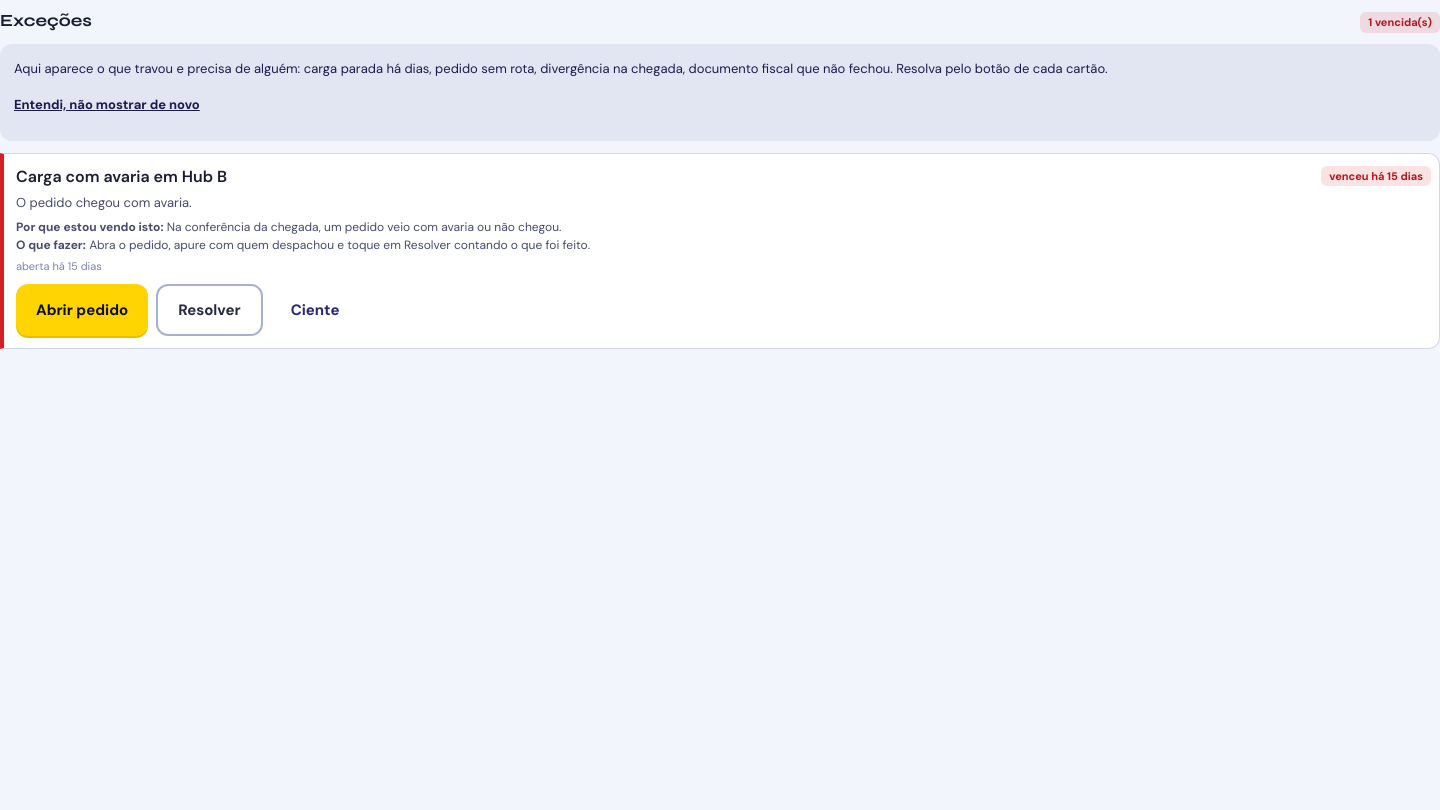
ExceptionsPage › resolver exige a nota antes de habilitar a confirmacao
Later steps or results of the test are not shown.
Step 1. Click the button "Resolver" → (209, 310), box [156,284,263,336]
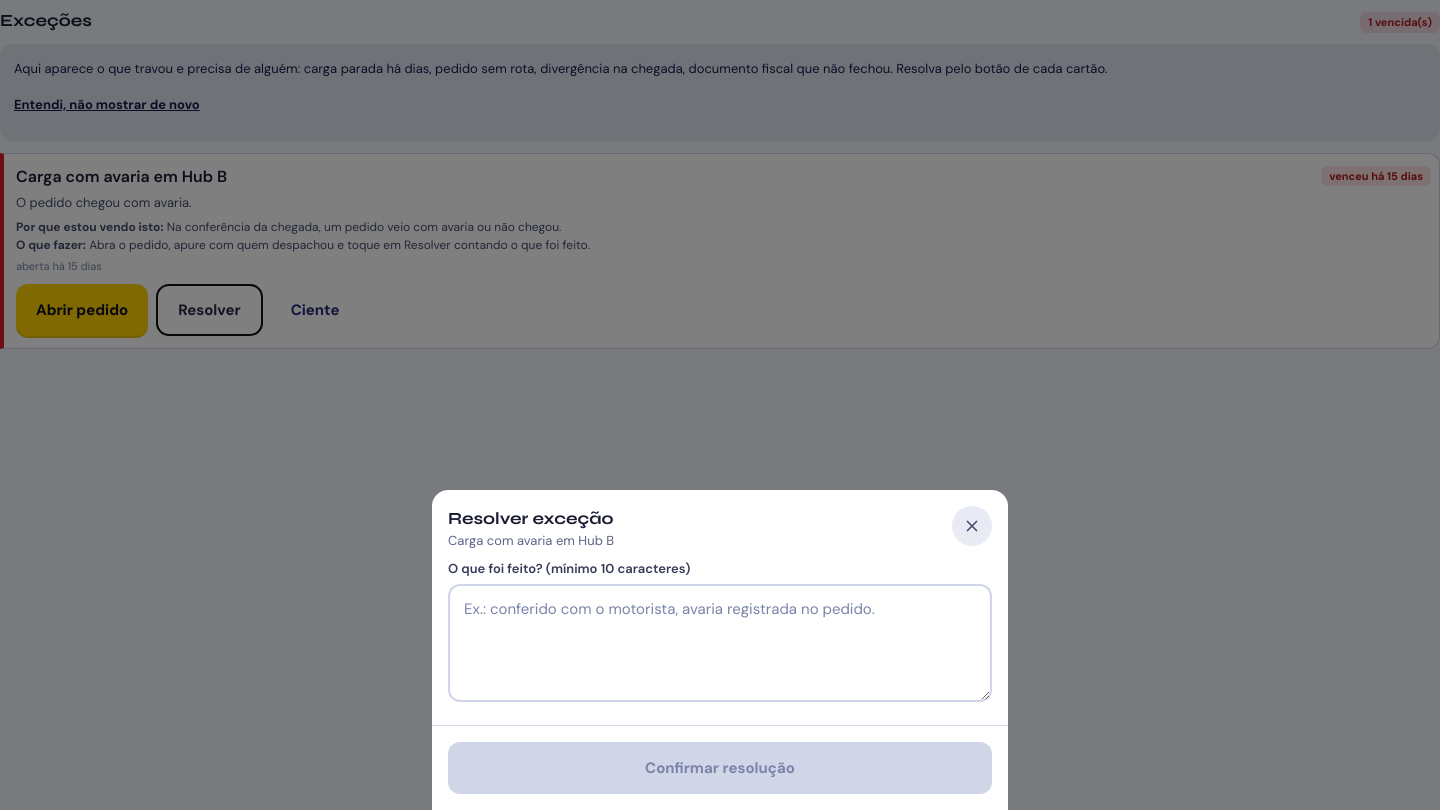
expect the button "Confirmar resolução" is disabled: met, box [448,742,992,794]
Step 2. Type "Conferido com o motorista." into the text box → (720, 643), box [448,584,992,702]
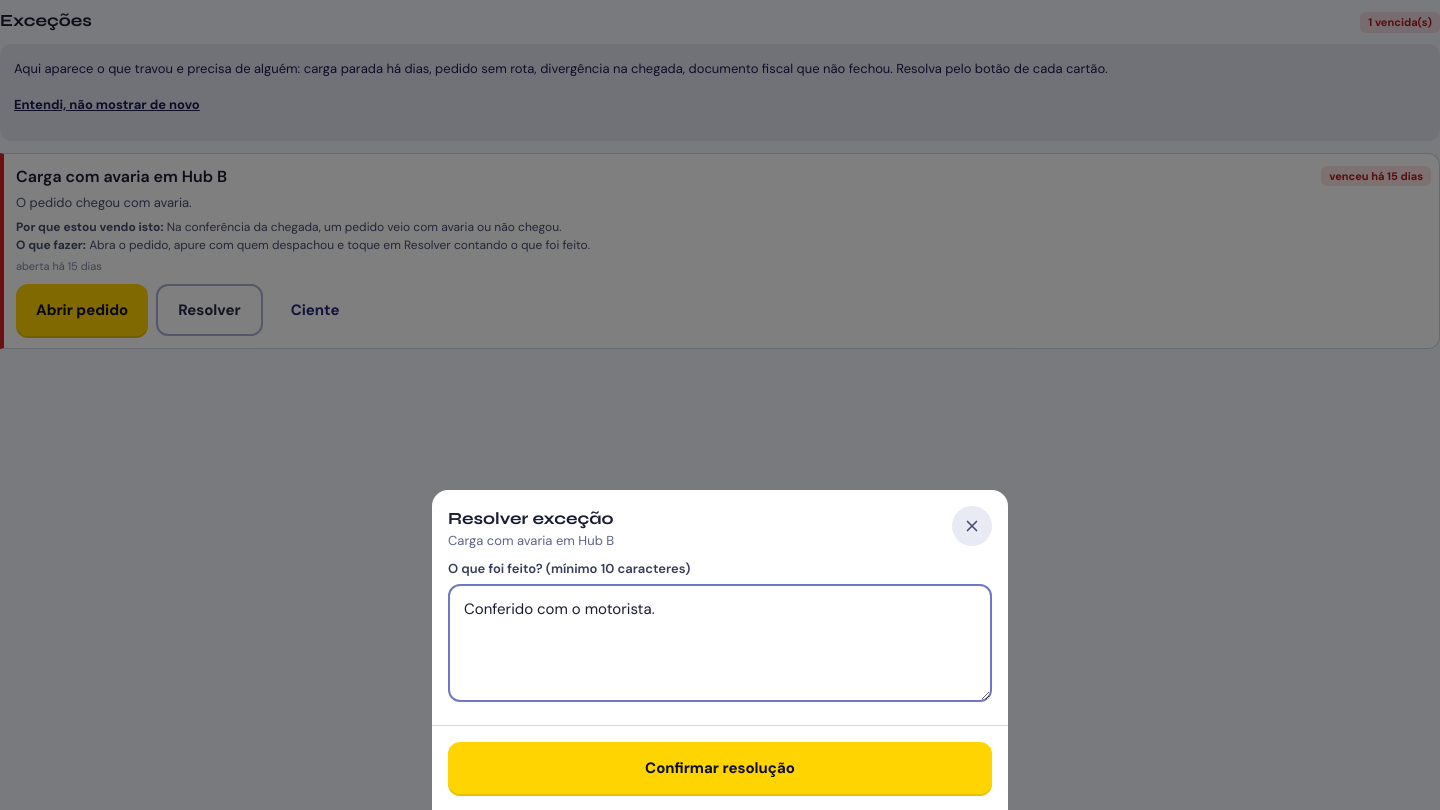
expect the button "Confirmar resolução" is enabled: met, box [448,742,992,794]
